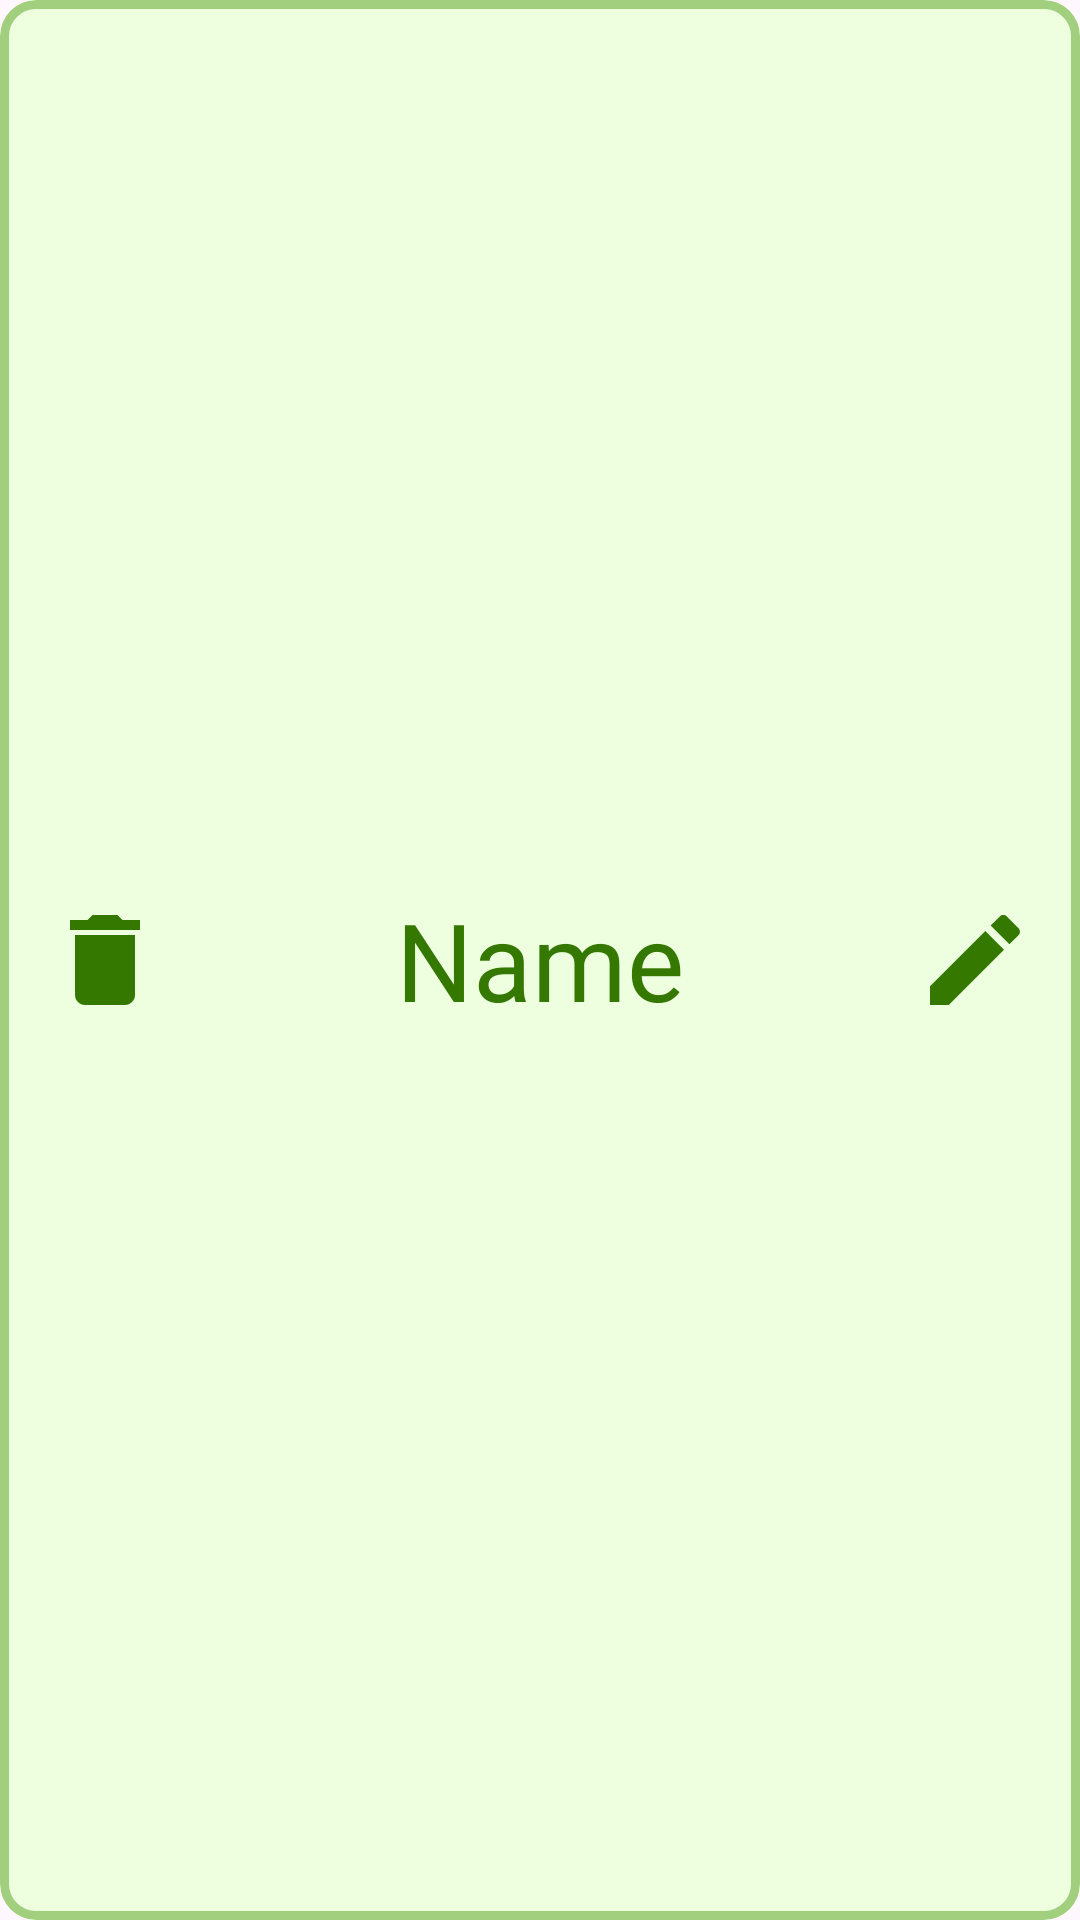

Named icons in this screenshot (1080px×1920px) and their bounding boxes, (x1, y1, x2, y2):
delete: (70, 915, 140, 1005)
edit: (930, 915, 1020, 1005)
